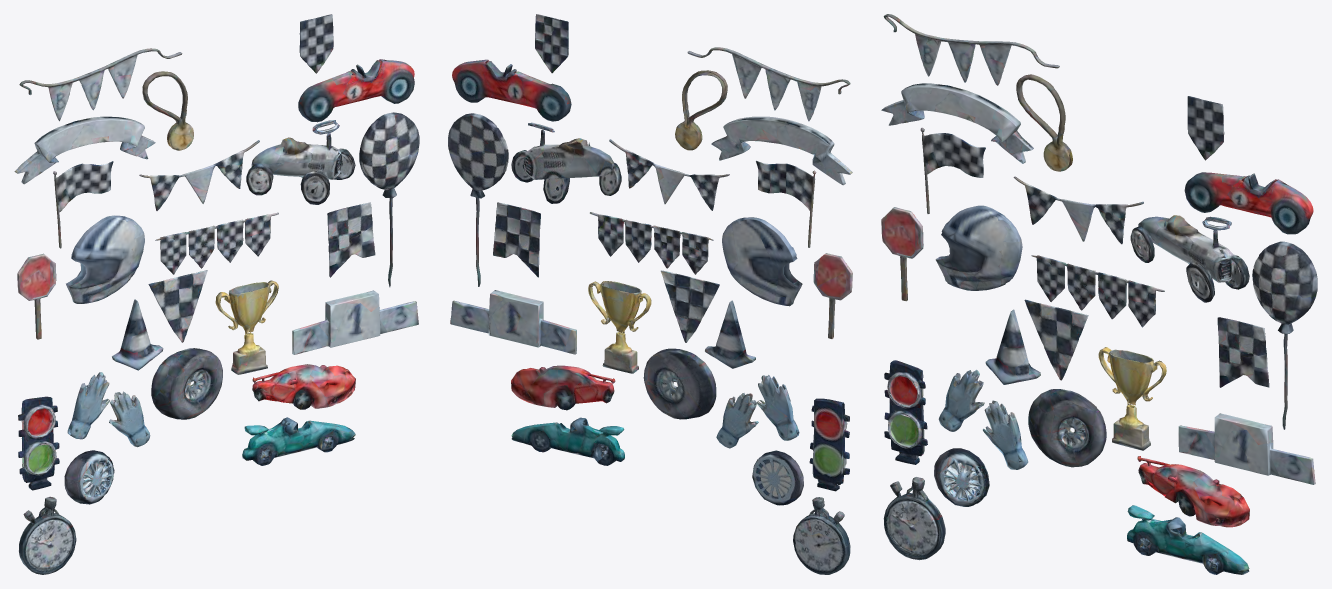
The picture shows the model from 3 angles, left to right: view 1: azimuth 30°, elevation 25°; view 2: azimuth 150°, elevation 25°; view 3: azimuth 330°, elevation 25°; orthographic projection. The views are drawn at different scales.
Visible parts, largest first — view 1: Mesh 10, Mesh 35, Mesh 43, Mesh 23, Mesh 48, Mesh 51, Mesh 1, Mesh 37, Mesh 24, Mesh 36, Mesh 4, Mesh 6 (+12 smaller); view 2: Mesh 10, Mesh 35, Mesh 43, Mesh 23, Mesh 48, Mesh 51, Mesh 1, Mesh 24, Mesh 37, Mesh 36, Mesh 6, Mesh 13 (+12 smaller); view 3: Mesh 10, Mesh 35, Mesh 43, Mesh 23, Mesh 48, Mesh 51, Mesh 1, Mesh 37, Mesh 24, Mesh 36, Mesh 6, Mesh 4 (+12 smaller).
Part boxes in pixels (<box>): Mesh 10: <box>66,215,144,303</box>; Mesh 35: <box>246,120,355,204</box>; Mesh 43: <box>292,290,418,354</box>; Mesh 23: <box>151,348,222,419</box>; Mesh 48: <box>298,59,414,122</box>; Mesh 51: <box>359,112,419,287</box>; Mesh 1: <box>14,116,155,184</box>; Mesh 37: <box>252,364,355,409</box>; Mesh 24: <box>155,212,278,274</box>; Mesh 36: <box>242,417,355,465</box>; Mesh 4: <box>18,396,59,490</box>; Mesh 6: <box>19,496,76,574</box>; Mesh 10: <box>722,217,802,306</box>; Mesh 35: <box>511,122,621,203</box>; Mesh 43: <box>450,290,576,354</box>; Mesh 23: <box>643,348,716,419</box>; Mesh 48: <box>452,59,571,121</box>; Mesh 51: <box>448,113,508,286</box>; Mesh 1: <box>711,116,852,185</box>; Mesh 24: <box>589,212,713,274</box>; Mesh 37: <box>511,365,615,410</box>; Mesh 36: <box>511,417,624,465</box>; Mesh 6: <box>793,497,850,574</box>; Mesh 13: <box>716,375,799,448</box>; Mesh 10: <box>935,205,1022,290</box>; Mesh 35: <box>1130,215,1249,302</box>; Mesh 43: <box>1178,413,1315,484</box>; Mesh 23: <box>1028,389,1106,467</box>; Mesh 48: <box>1184,172,1313,234</box>; Mesh 51: <box>1252,241,1317,429</box>; Mesh 1: <box>881,83,1033,163</box>; Mesh 37: <box>1137,456,1249,527</box>; Mesh 24: <box>1031,255,1164,327</box>; Mesh 36: <box>1127,505,1249,574</box>; Mesh 6: <box>883,477,945,560</box>; Mesh 4: <box>884,360,927,464</box>.
Size of the model in its own units: 1.57 by 1.87 by 0.0619.
24 materials, 24 textured.
